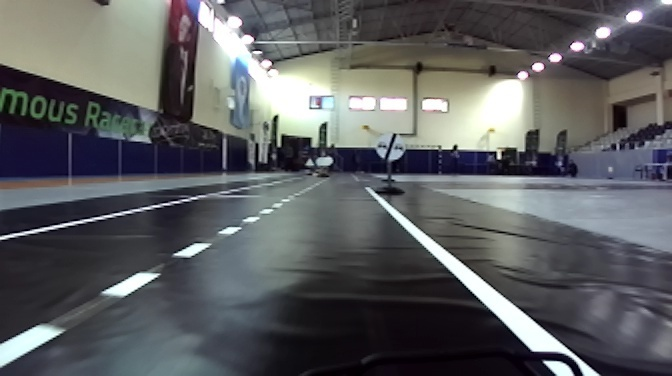sollama_serbest: (374, 133, 405, 162)
